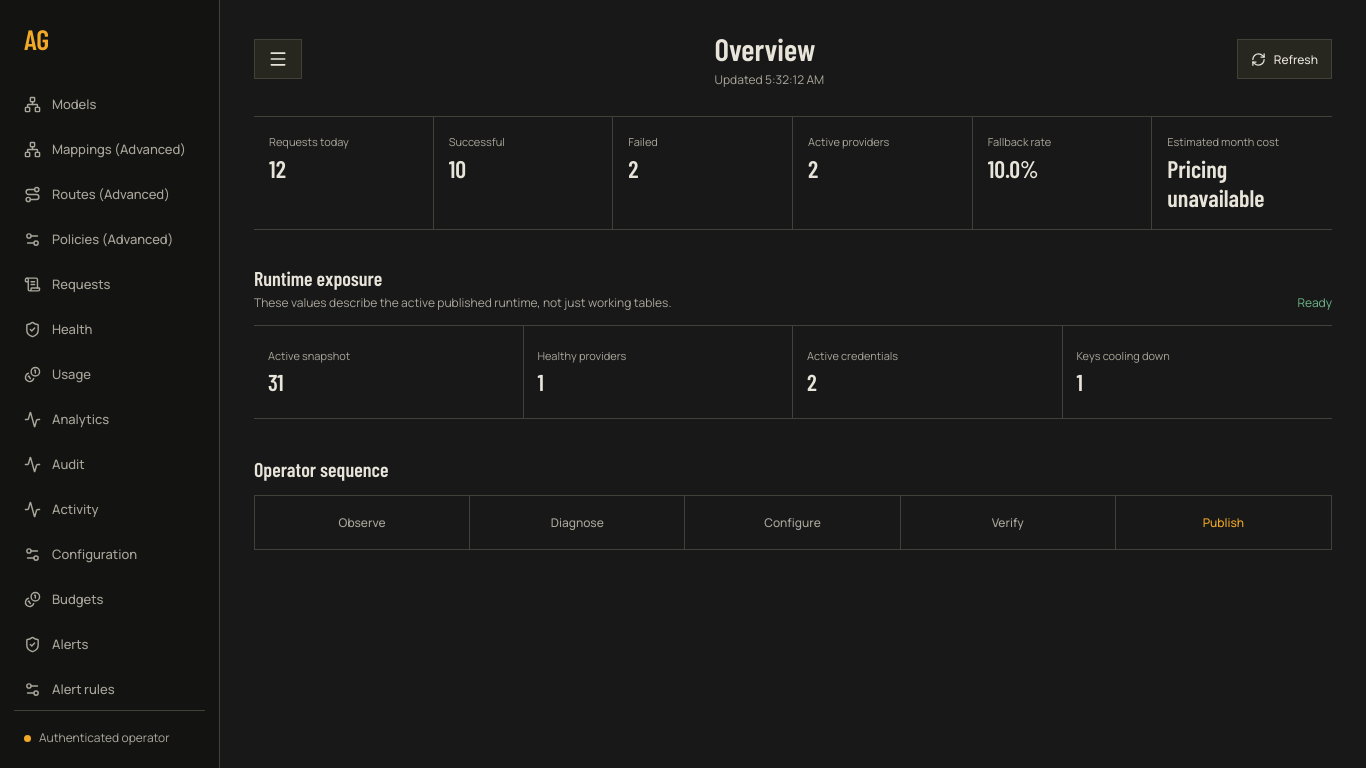
Scenario: control plane › describes an alert rule without showing raw JSON
This screenshot has width=1366, height=768.
(page scrolled)
Click the button "Alert rules" at [110, 689], box [14,668,205,710]
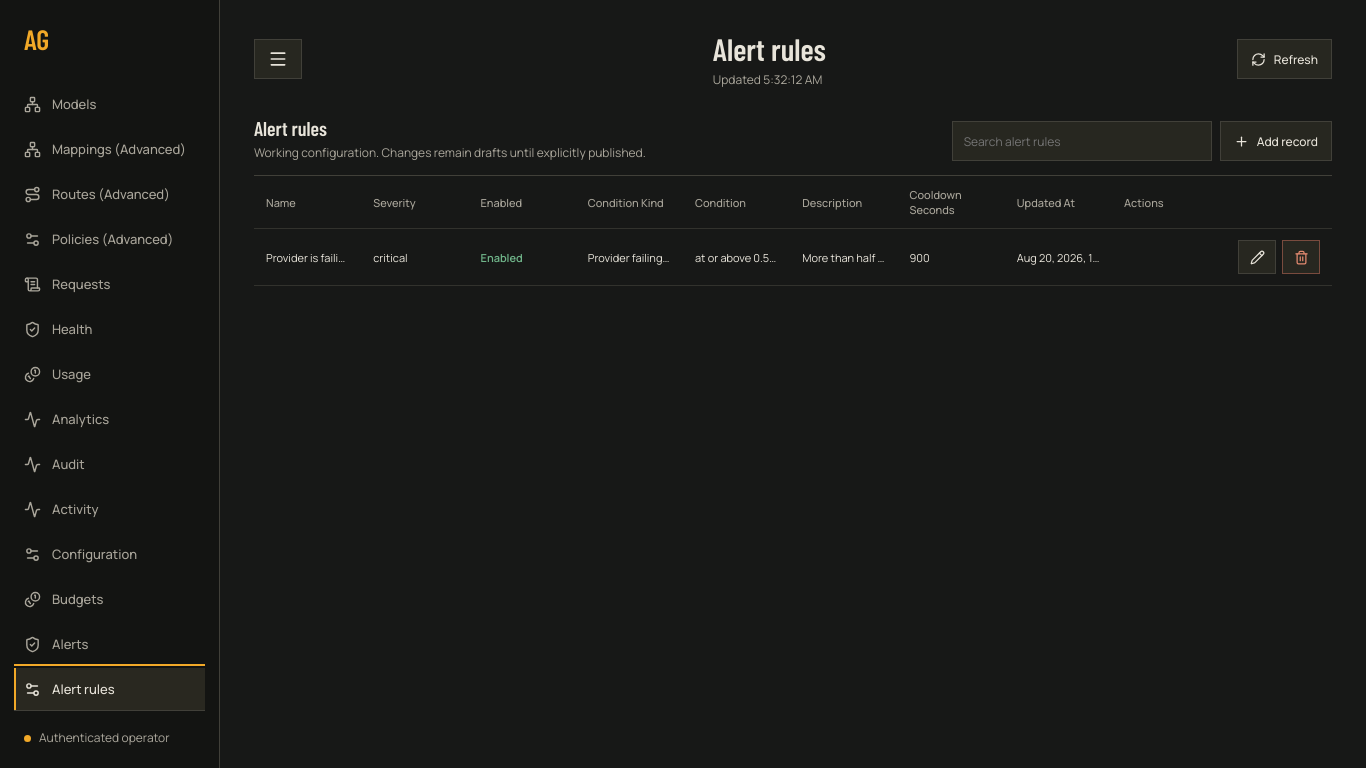
Now the text "Provider failing a share of attempts" is shown, box [588,250,671,264]
Now the text "at or above 0.5, measured over 15 minutes" is shown, box [695,250,1062,264]
